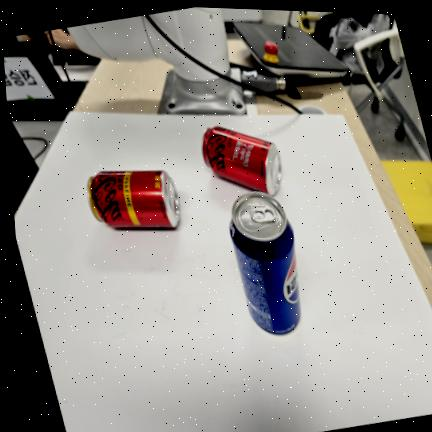can_coke_decaf: (88, 171, 180, 228)
can_coke_zero: (202, 126, 282, 195)
can_pepsi: (230, 192, 301, 334)
